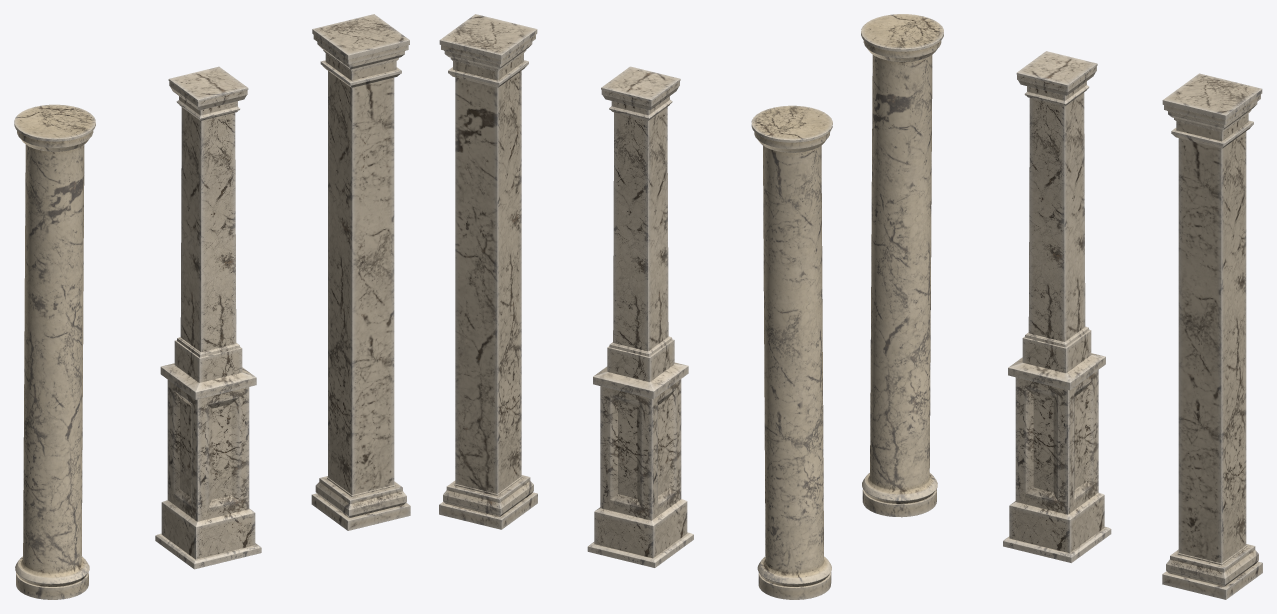
The model's file is low_poly_columns.glb.
3 views of the same model, side by side, from view 1: azimuth 30°, elevation 25°; view 2: azimuth 150°, elevation 25°; view 3: azimuth 330°, elevation 25° (orthographic). The views are drawn at different scales.
Parts seen in each view (by area): view 1: Cube, Cube.001, Cylinder; view 2: Cube, Cube.001, Cylinder; view 3: Cube, Cube.001, Cylinder.
Boxes of the visible parts, <box> form: Cube: <box>311,14,410,530</box>; Cube.001: <box>155,66,261,569</box>; Cylinder: <box>14,104,95,599</box>; Cube: <box>439,14,537,529</box>; Cube.001: <box>587,66,693,567</box>; Cylinder: <box>751,105,832,599</box>; Cube: <box>1162,73,1262,599</box>; Cube.001: <box>1003,51,1111,562</box>; Cylinder: <box>861,14,943,517</box>.
Bounding box in the file's own units: 12.5 × 15.26 × 2.38.
Materials: 3 (3 with a texture image).
